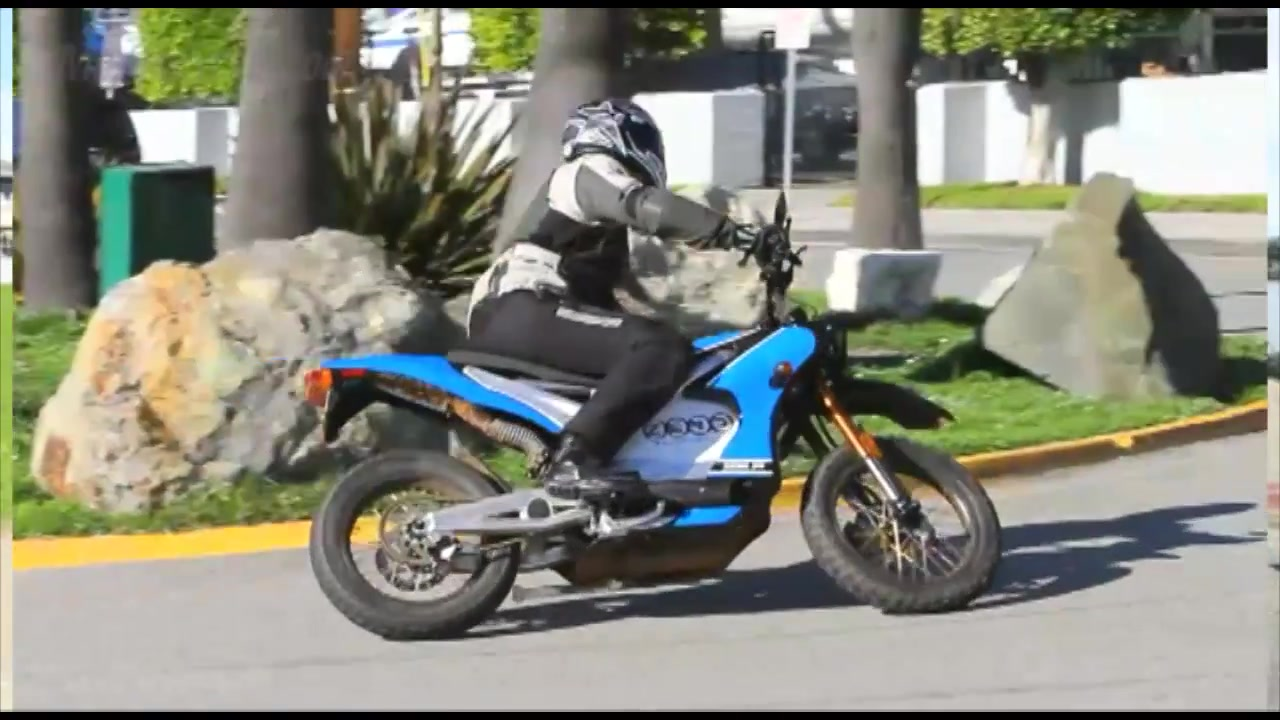motorbike: (308, 195, 1008, 650)
